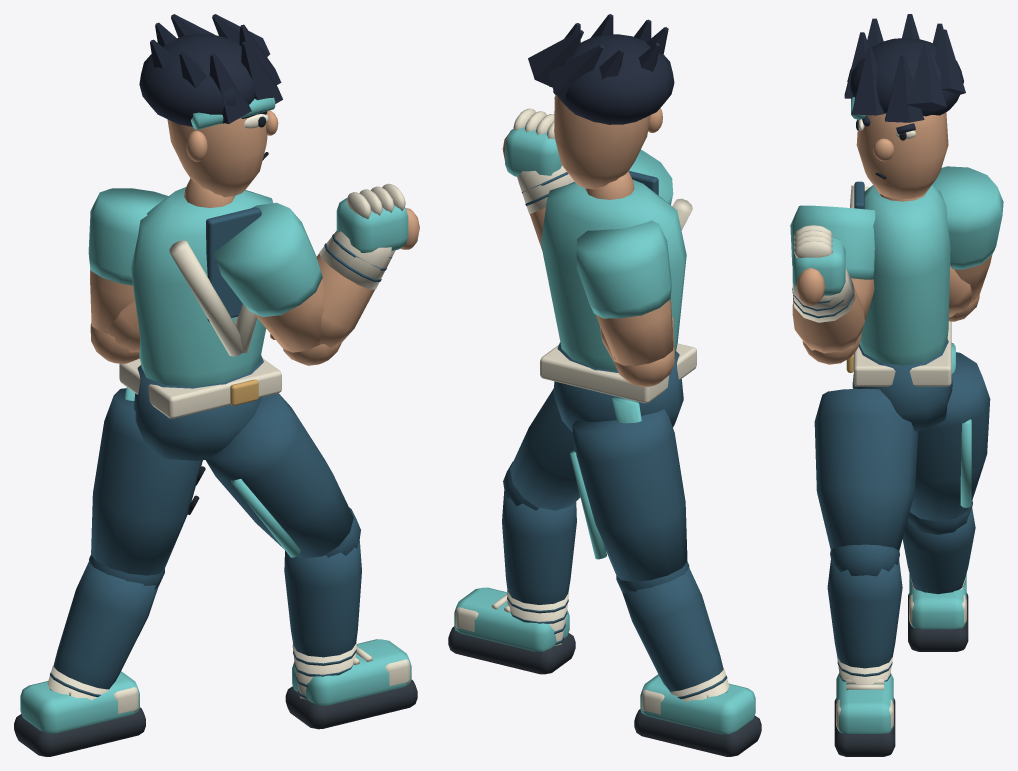
Rendered from lin-rig-v2.glb.
The picture shows the model from 3 angles, left to right: view 1: azimuth 30°, elevation 25°; view 2: azimuth 150°, elevation 25°; view 3: azimuth 270°, elevation 25°; orthographic projection. The views are drawn at different scales.
Parts seen in each view (by area): view 1: lin__torso_surface, lin__head_surface, lin__thighF_surface, lin__thighB_surface, lin__upperArmF_surface, lin__shinB_surface, lin__shinF_surface, lin__upperArmB_surface, lin__footB_surface, lin__footF_surface, lin__pelvis_surface, lin__forearmF_surface (+2 smaller); view 2: lin__head_surface, lin__thighB_surface, lin__torso_surface, lin__upperArmB_surface, lin__shinB_surface, lin__shinF_surface, lin__footB_surface, lin__footF_surface, lin__thighF_surface, lin__pelvis_surface, lin__handF_surface, lin__forearmF_surface (+2 smaller); view 3: lin__torso_surface, lin__thighF_surface, lin__head_surface, lin__thighB_surface, lin__shinF_surface, lin__upperArmB_surface, lin__footF_surface, lin__upperArmF_surface, lin__shinB_surface, lin__forearmF_surface, lin__footB_surface, lin__handF_surface (+2 smaller).
Part boxes in pixels (x1,y1,x2,y2): lin__torso_surface: [119, 187, 281, 418]; lin__head_surface: [139, 14, 282, 207]; lin__thighF_surface: [205, 393, 360, 558]; lin__thighB_surface: [89, 388, 205, 589]; lin__upperArmF_surface: [214, 202, 341, 365]; lin__shinB_surface: [47, 561, 158, 700]; lin__shinF_surface: [284, 539, 361, 699]; lin__upperArmB_surface: [88, 188, 168, 363]; lin__footB_surface: [14, 671, 145, 756]; lin__footF_surface: [285, 639, 417, 729]; lin__pelvis_surface: [133, 355, 263, 460]; lin__forearmF_surface: [317, 230, 395, 348]; lin__head_surface: [528, 14, 674, 199]; lin__thighB_surface: [570, 409, 689, 594]; lin__torso_surface: [540, 171, 696, 403]; lin__upperArmB_surface: [576, 220, 674, 386]; lin__shinB_surface: [622, 568, 729, 701]; lin__shinF_surface: [502, 490, 576, 645]; lin__footB_surface: [634, 674, 761, 756]; lin__footF_surface: [448, 587, 575, 674]; lin__thighF_surface: [503, 389, 580, 510]; lin__pelvis_surface: [553, 342, 683, 432]; lin__handF_surface: [502, 108, 561, 176]; lin__forearmF_surface: [517, 165, 574, 250]; lin__torso_surface: [846, 181, 951, 386]; lin__thighF_surface: [814, 388, 918, 576]; lin__head_surface: [844, 14, 965, 201]; lin__thighB_surface: [908, 352, 990, 534]; lin__shinF_surface: [827, 559, 902, 684]; lin__upperArmB_surface: [932, 166, 1003, 321]; lin__footF_surface: [834, 673, 895, 756]; lin__upperArmF_surface: [790, 205, 875, 364]; lin__shinB_surface: [902, 508, 975, 594]; lin__forearmF_surface: [792, 268, 864, 353]; lin__footB_surface: [908, 574, 968, 651]; lin__handF_surface: [792, 225, 845, 305].
Size of the model in its own units: 1.75 by 3.42 by 1.02.
